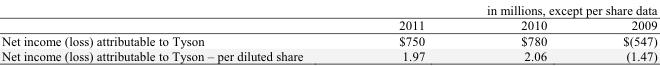table: (0, 0, 656, 63)
table column: (0, 0, 350, 63), (350, 0, 472, 63), (472, 0, 584, 63), (584, 0, 656, 63)
table column header: (0, 0, 656, 32)
table row: (0, 0, 656, 16), (0, 16, 656, 32), (0, 47, 656, 63), (0, 32, 656, 47)
table spanning cell: (350, 0, 656, 16)
